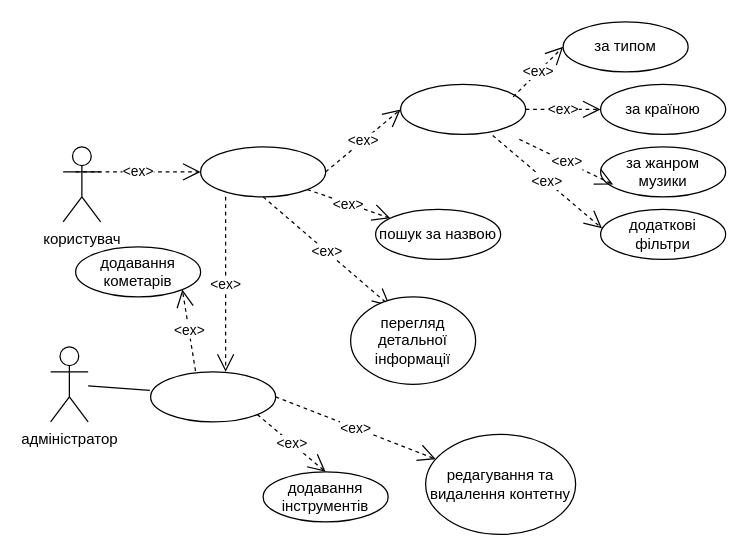
This 748x556 diagram has some shape labels left out. Here are the shapes that lost their labels. From the top down, the centre of each, then its label:
pixel 462 108: відфільтрувати галерею
pixel 262 171: головна сторінка
pixel 212 396: реєстрація та вхід
